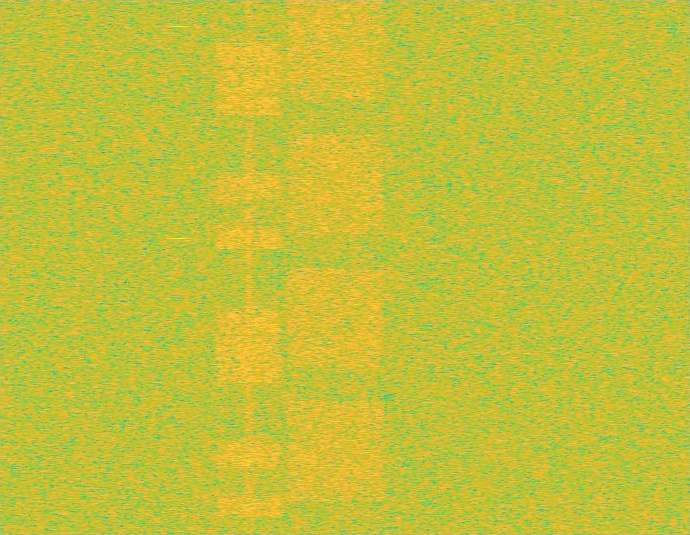5G: (284, 0, 387, 534)
DSSS: (244, 0, 254, 534)
LTE: (215, 0, 284, 534)
Radar: (172, 0, 186, 534)
